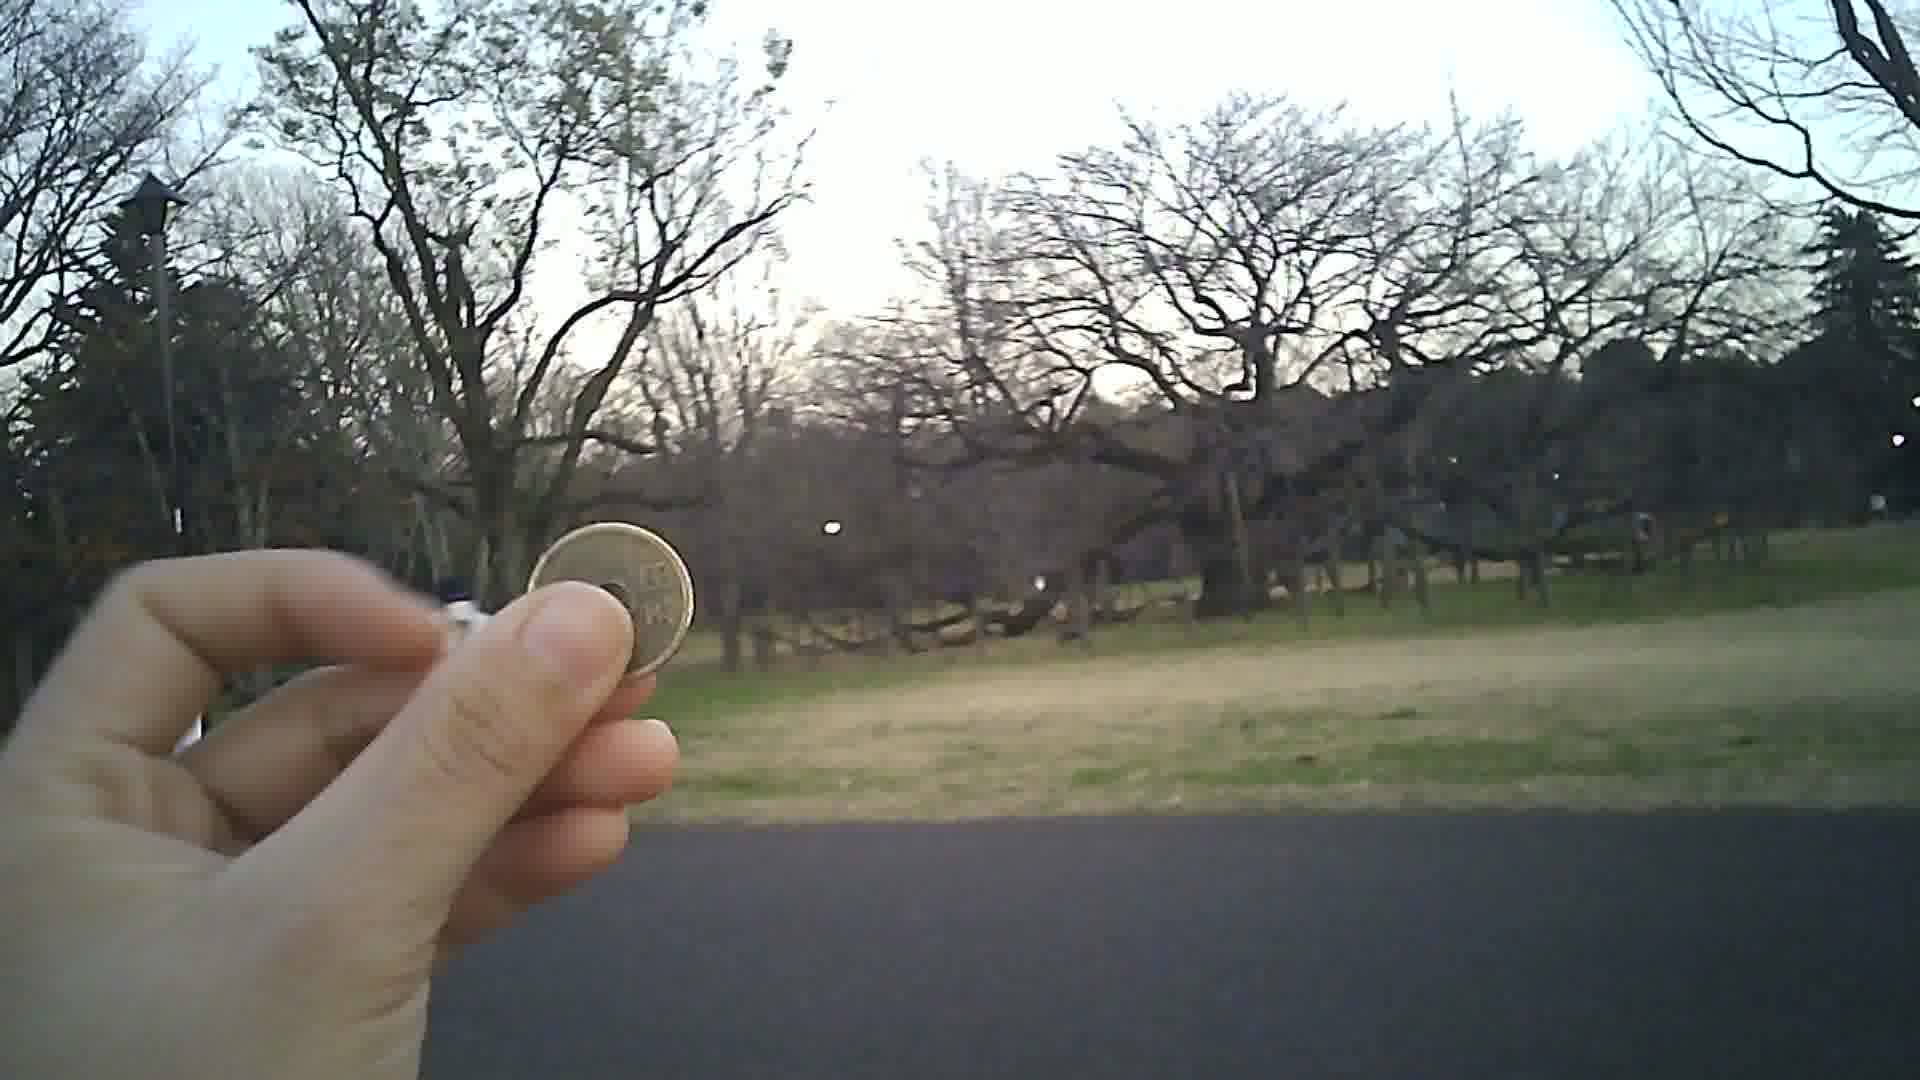5 Yen: (520, 508, 700, 688)
